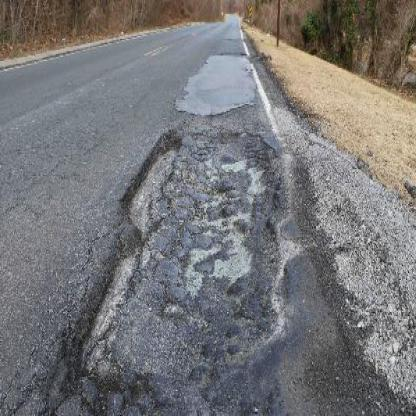pothole: (65, 125, 290, 408)
